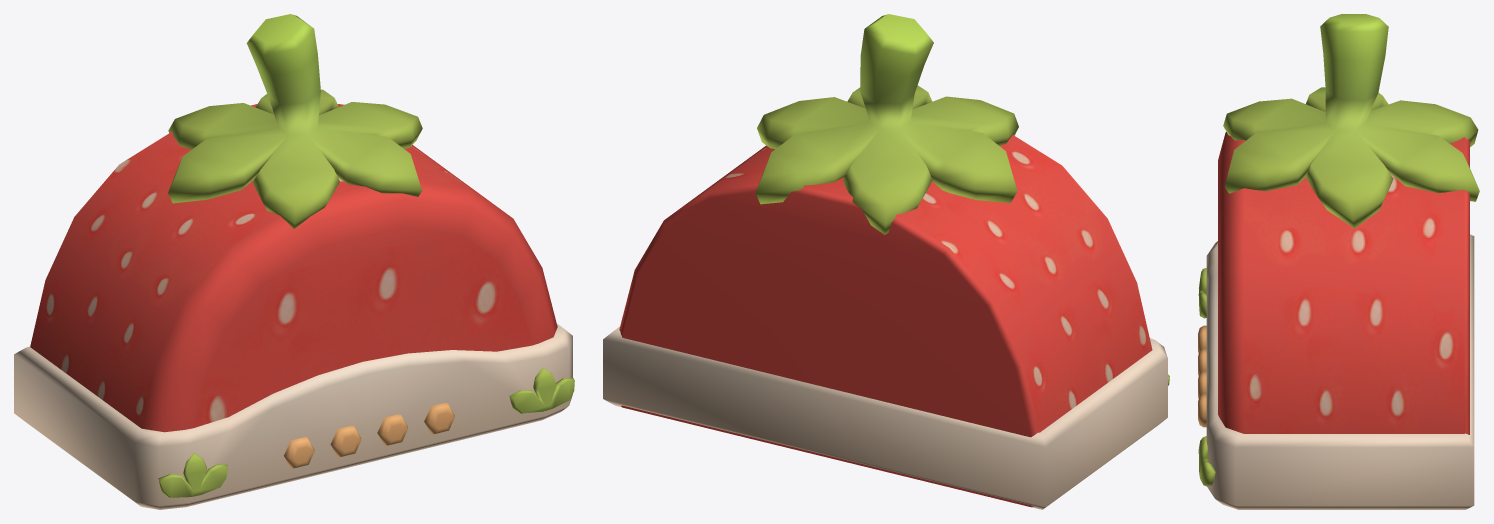
The model's file is Homestead_cm_15.fbx.
3 renders of one model, left to right at view 1: azimuth 30°, elevation 25°; view 2: azimuth 150°, elevation 25°; view 3: azimuth 270°, elevation 25°, orthographic. The views are drawn at different scales.
Parts seen in each view (by area): view 1: Homestead_cm_15; view 2: Homestead_cm_15; view 3: Homestead_cm_15.
Part boxes in pixels (bbox=[...]): Homestead_cm_15: bbox=[14, 14, 574, 509]; Homestead_cm_15: bbox=[603, 14, 1169, 509]; Homestead_cm_15: bbox=[1198, 14, 1479, 509].
Size of the model in its own units: 160 by 137 by 90.08.
